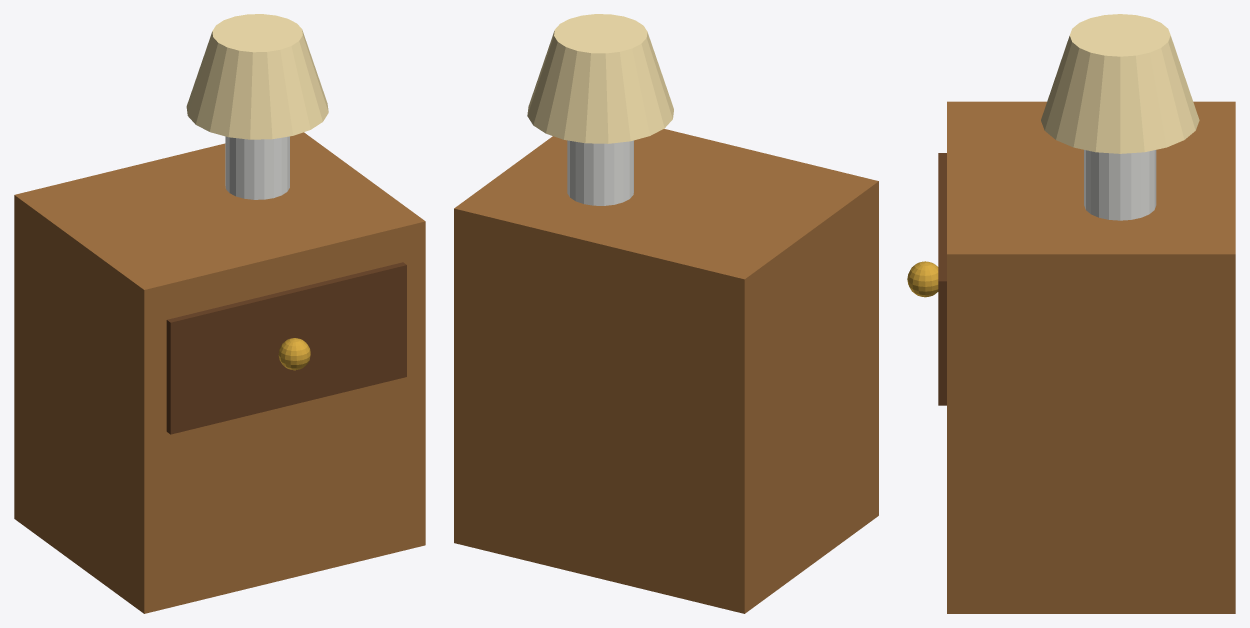
File: nightstand.glb
3 renders of one model, left to right at view 1: azimuth 30°, elevation 25°; view 2: azimuth 150°, elevation 25°; view 3: azimuth 270°, elevation 25°, orthographic. The views are drawn at different scales.
Parts seen in each view (by area): view 1: Body, Drawer, Lamp_shade, Lamp_base, Knob; view 2: Body, Lamp_shade, Lamp_base; view 3: Body, Lamp_shade, Lamp_base, Drawer, Knob.
Boxes of the visible parts, x1,y1,x2,y2 form: Body: (14, 132, 425, 613); Drawer: (166, 262, 406, 434); Lamp_shade: (186, 14, 328, 139); Lamp_base: (225, 136, 289, 199); Knob: (278, 338, 310, 370); Body: (454, 129, 878, 613); Lamp_shade: (527, 14, 673, 143); Lamp_base: (567, 140, 633, 205); Body: (947, 101, 1235, 613); Lamp_shade: (1041, 14, 1199, 153); Lamp_base: (1084, 150, 1156, 220); Drawer: (938, 153, 946, 405); Knob: (907, 261, 938, 297).
Bounding box in the file's own units: 0.5 × 0.81 × 0.455.
